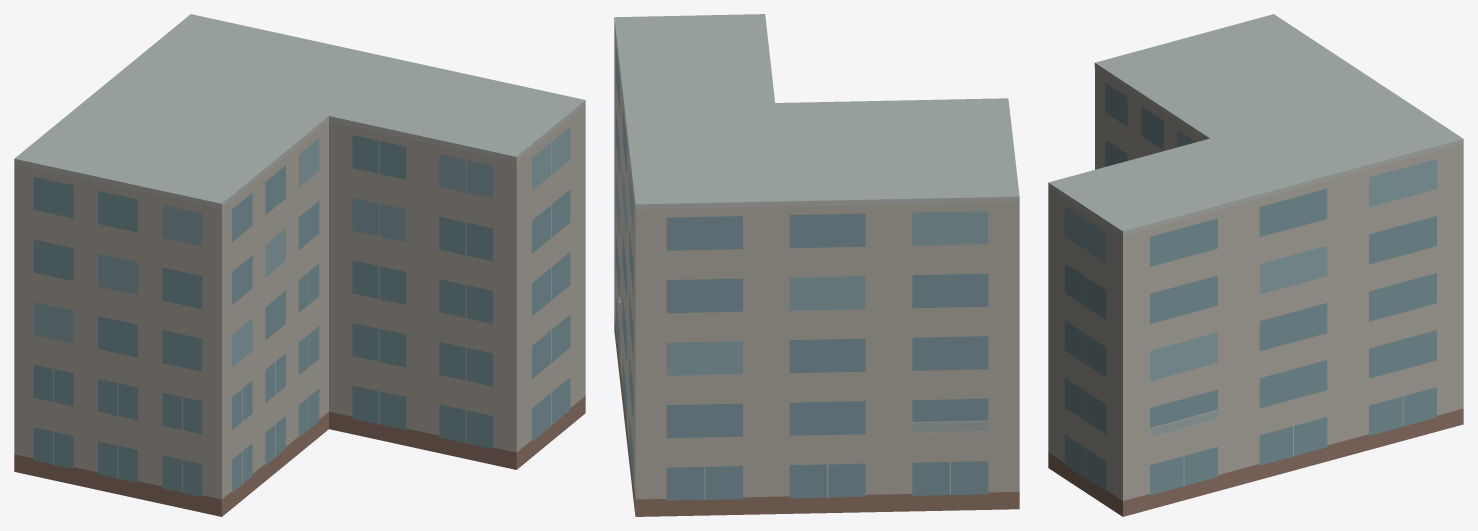
The model's file is residential-0f8d4c98-b261-41c1-b3ab-463ed41b26bb.glb.
3 views of the same model, side by side, from view 1: azimuth 30°, elevation 25°; view 2: azimuth 150°, elevation 25°; view 3: azimuth 270°, elevation 25° (orthographic). The views are drawn at different scales.
Parts seen in each view (by area): view 1: residential-0f8d4c98-b261-41c1-b3ab-463ed41b26bb.tmp; view 2: residential-0f8d4c98-b261-41c1-b3ab-463ed41b26bb.tmp; view 3: residential-0f8d4c98-b261-41c1-b3ab-463ed41b26bb.tmp.
Boxes of the visible parts, x1=… form: residential-0f8d4c98-b261-41c1-b3ab-463ed41b26bb.tmp: x1=14, y1=14, x2=585, y2=516; residential-0f8d4c98-b261-41c1-b3ab-463ed41b26bb.tmp: x1=614, y1=14, x2=1019, y2=516; residential-0f8d4c98-b261-41c1-b3ab-463ed41b26bb.tmp: x1=1048, y1=14, x2=1463, y2=516.
Bounding box in the file's own units: 24.84 × 15.2 × 20.06.
